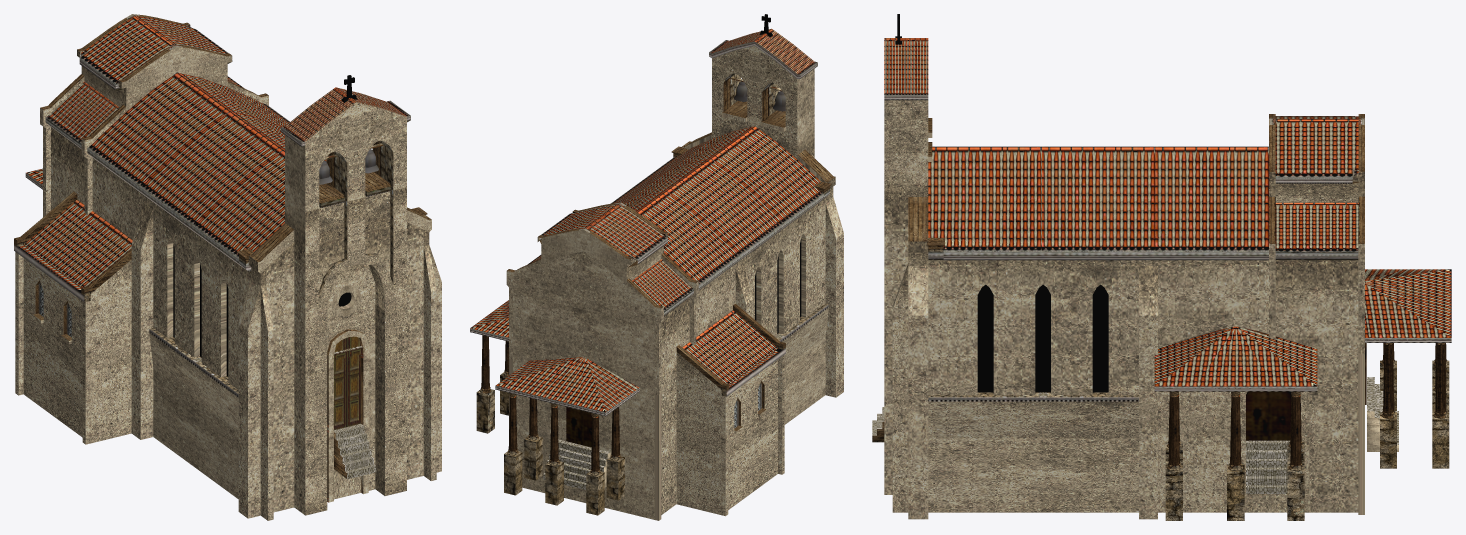
The model's file is temple.dae.
The picture shows the model from 3 angles, left to right: view 1: azimuth 30°, elevation 25°; view 2: azimuth 150°, elevation 25°; view 3: azimuth 270°, elevation 25°; orthographic projection. The views are drawn at different scales.
Visible parts, largest first — view 1: temple; view 2: temple; view 3: temple.
Boxes of the visible parts, bbox=[...] form: temple: bbox=[14, 14, 441, 520]; temple: bbox=[470, 14, 843, 520]; temple: bbox=[872, 14, 1451, 520].
Size of the model in its own units: 21.54 by 33.32 by 28.8.
